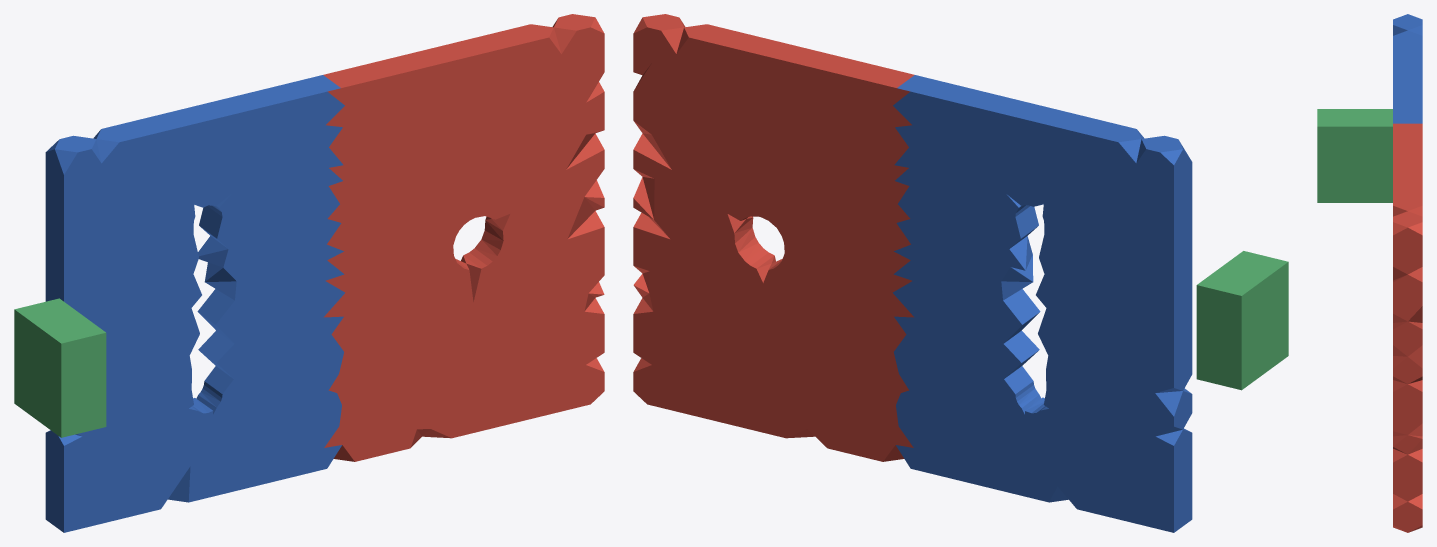
3 views of the same model, side by side, from view 1: azimuth 30°, elevation 25°; view 2: azimuth 150°, elevation 25°; view 3: azimuth 270°, elevation 25° (orthographic). The views are drawn at different scales.
Visible parts, largest first — view 1: plate, bracket; view 2: plate, bracket; view 3: plate, bracket.
Boxes of the visible parts, box(x1,y1,x2,y2) form: plate: box(45, 14, 604, 532); bracket: box(14, 298, 106, 437); plate: box(633, 14, 1192, 532); bracket: box(1196, 251, 1288, 390); plate: box(1393, 14, 1422, 532); bracket: box(1317, 109, 1392, 202).
Size of the model in its own units: 6.55 by 4 by 1.25.
